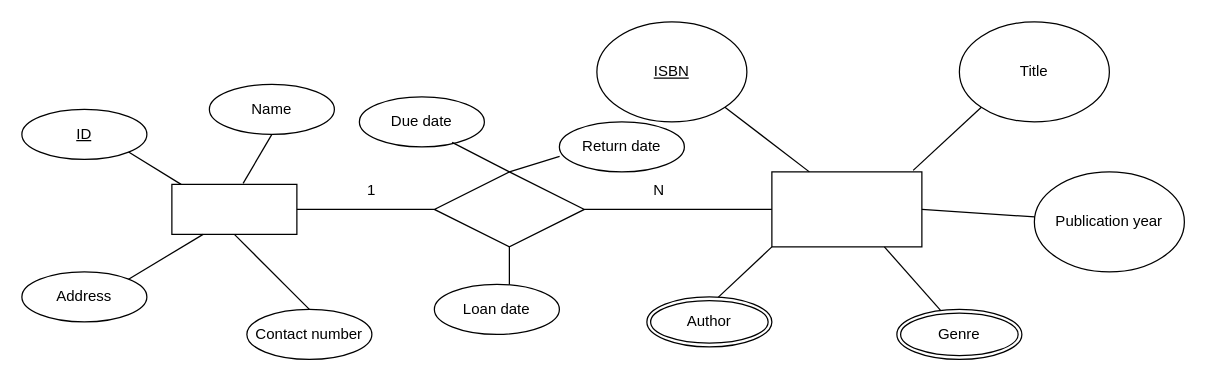
This 1206x381 diagram has some shape labels left out. The shapes that lost their labels are listed below. From the top down, each one's box as (x1, y1, x2, y2) in pixels, then its label:
(171, 183, 297, 234): MEMBERS
(433, 171, 584, 247): Borrow
(771, 171, 922, 247): BOOKS
